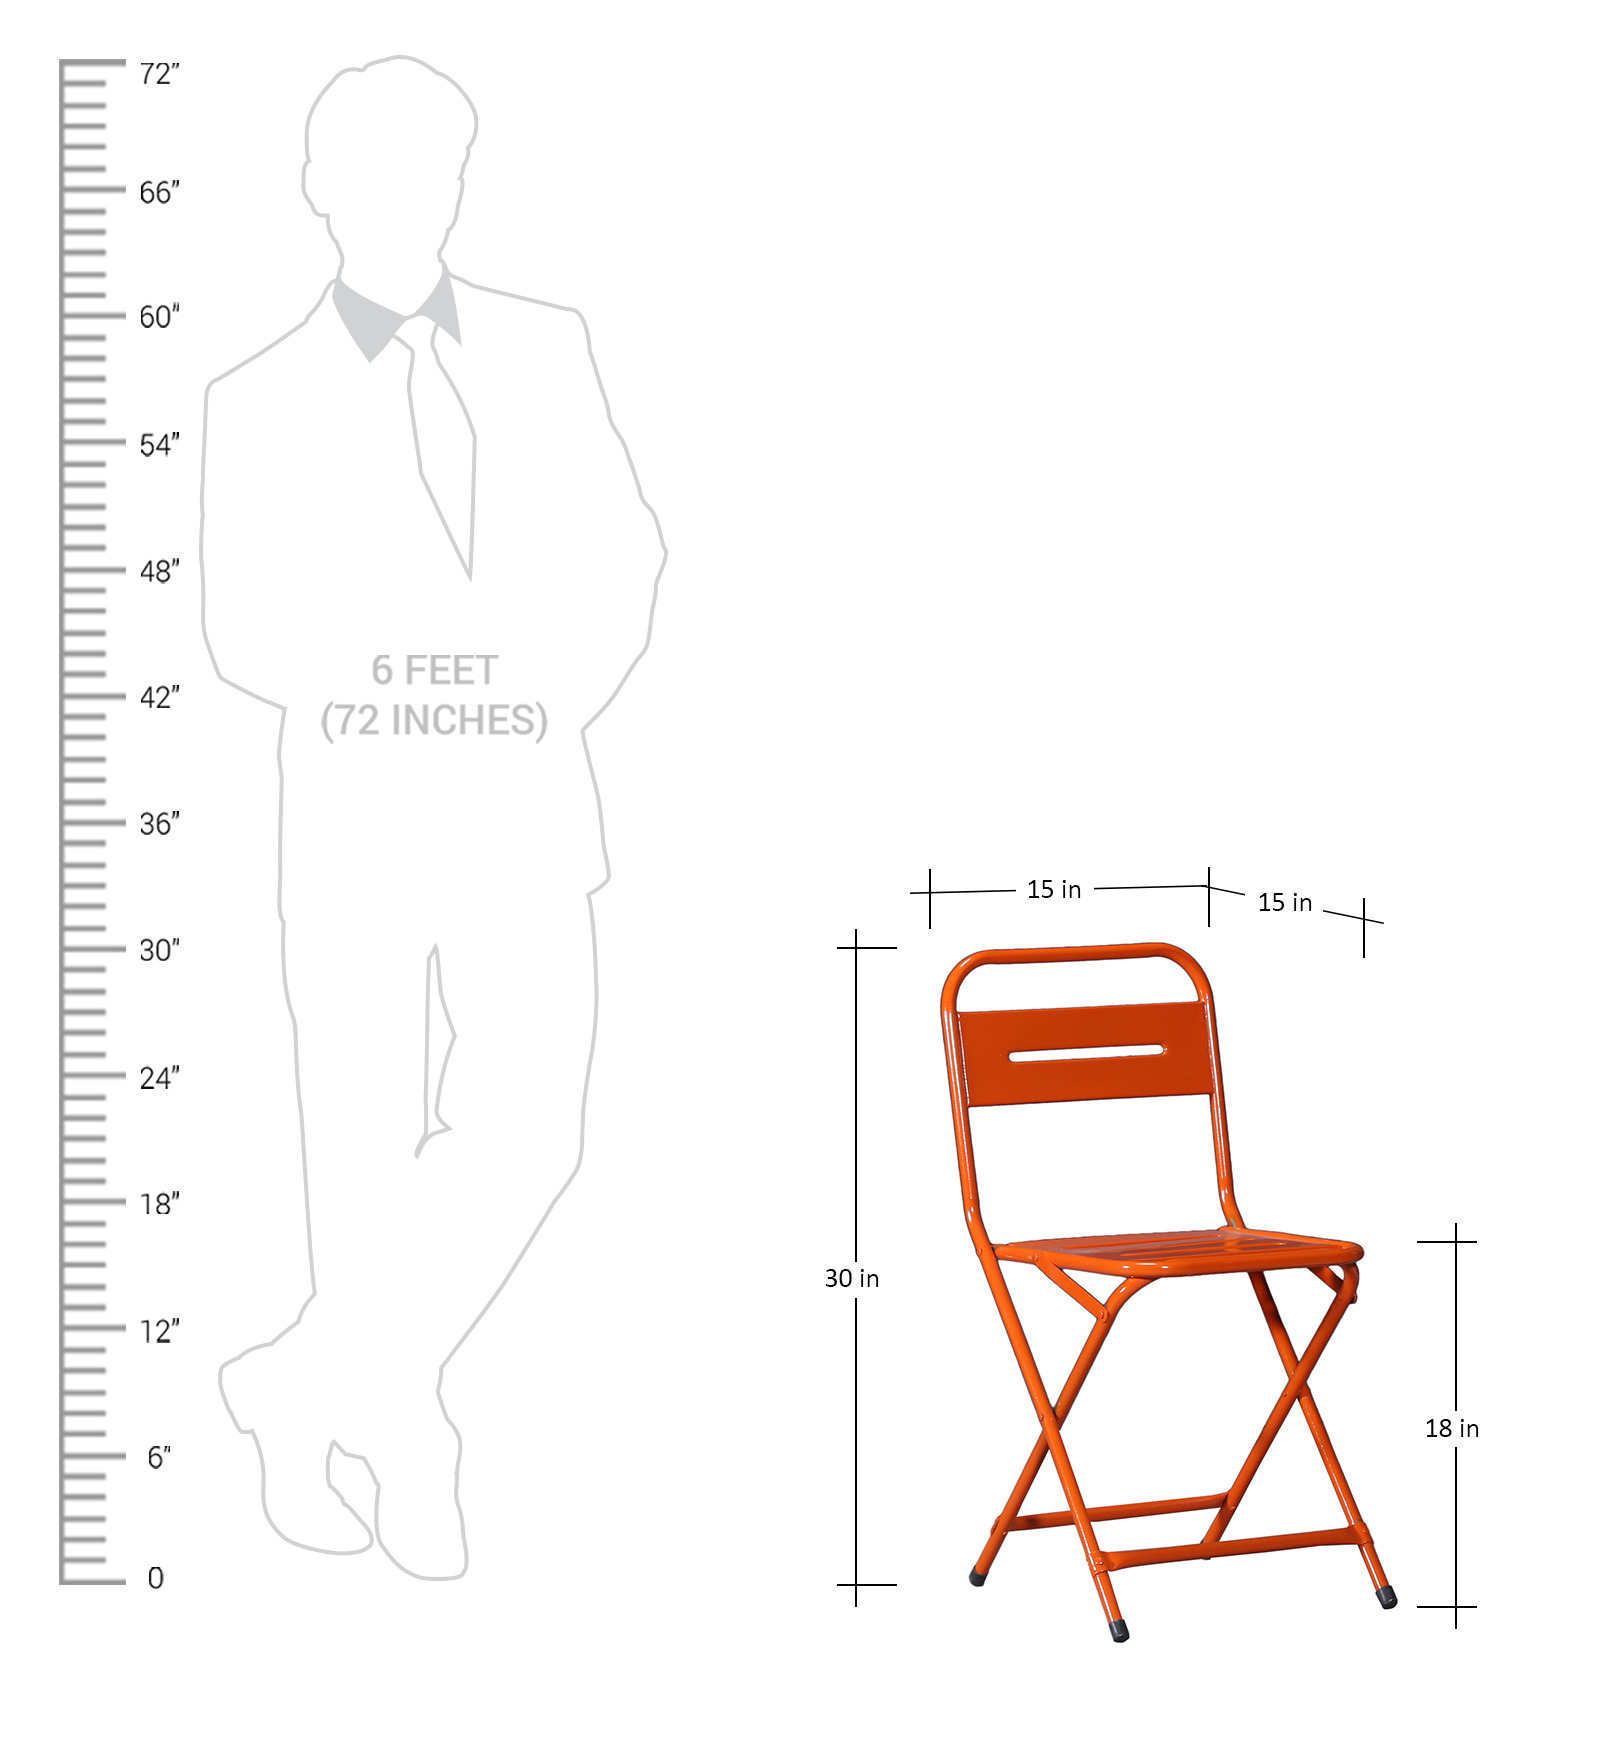Marandoo Grunge Orange Outdoor Folding Chair by Bohemiana: (930, 944, 1401, 1640)
